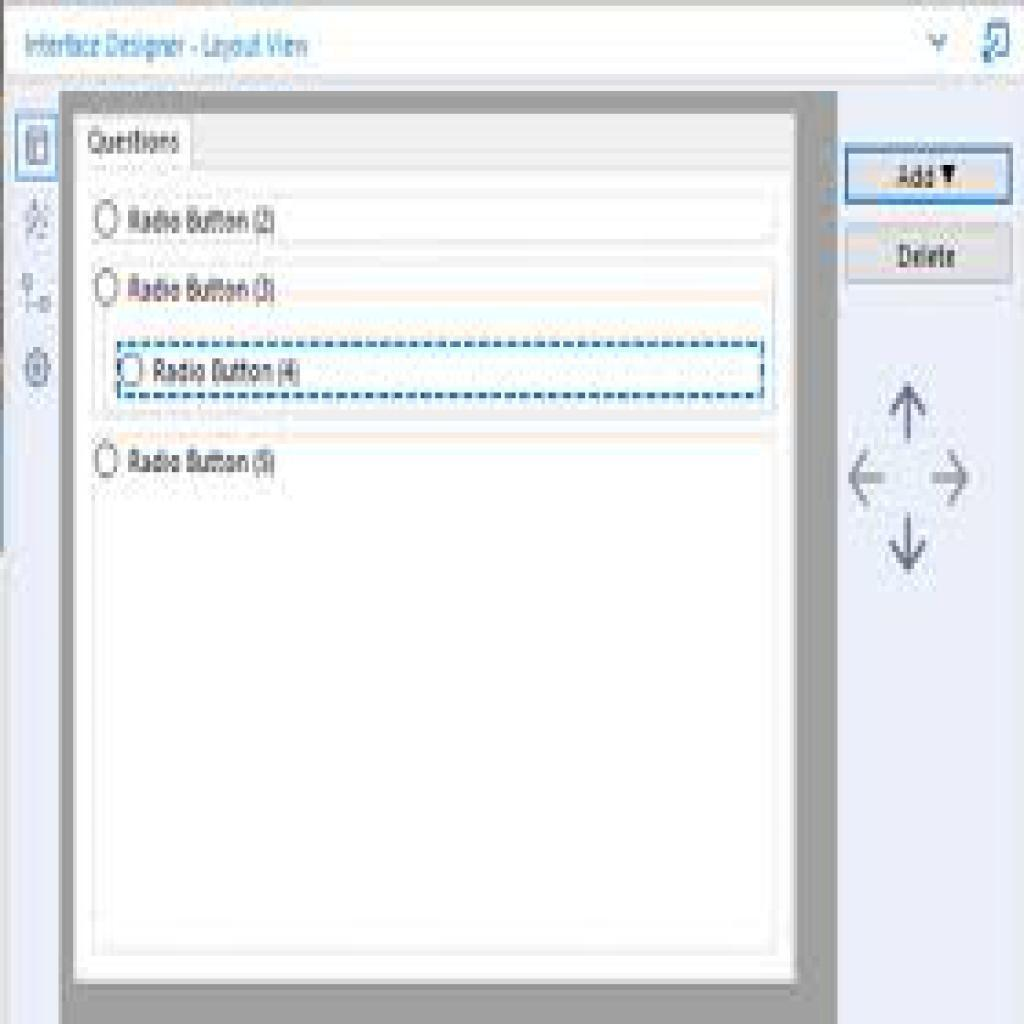dropdown: (846, 145, 1014, 206)
radio: (92, 436, 126, 484), (92, 200, 124, 248), (93, 266, 125, 313), (120, 352, 149, 392)
